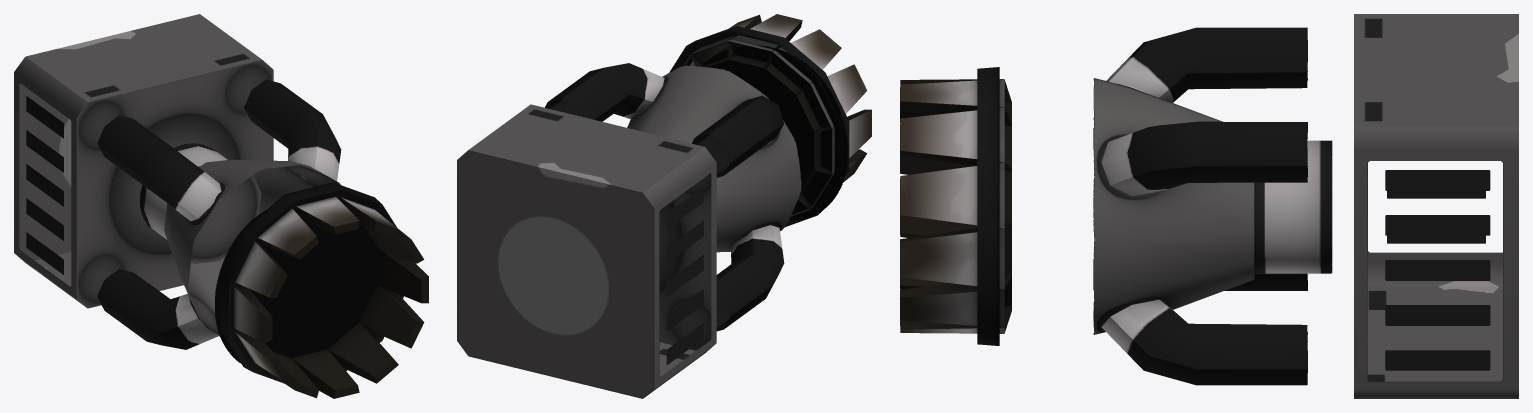
The model's file is obj_interactive_thruster_02_off.fbx.
3 views of the same model, side by side, from view 1: azimuth 30°, elevation 25°; view 2: azimuth 150°, elevation 25°; view 3: azimuth 270°, elevation 25° (orthographic). The views are drawn at different scales.
Parts seen in each view (by area): view 1: obj_interactive_thruster_02_off; view 2: obj_interactive_thruster_02_off; view 3: obj_interactive_thruster_02_off.
Part boxes in pixels (left/top/right/bottom): obj_interactive_thruster_02_off: left=14, top=14, right=428, bottom=398; obj_interactive_thruster_02_off: left=457, top=14, right=871, bottom=398; obj_interactive_thruster_02_off: left=900, top=14, right=1518, bottom=398.
Bounding box in the file's own units: 2.04 × 2.04 × 4.12.
